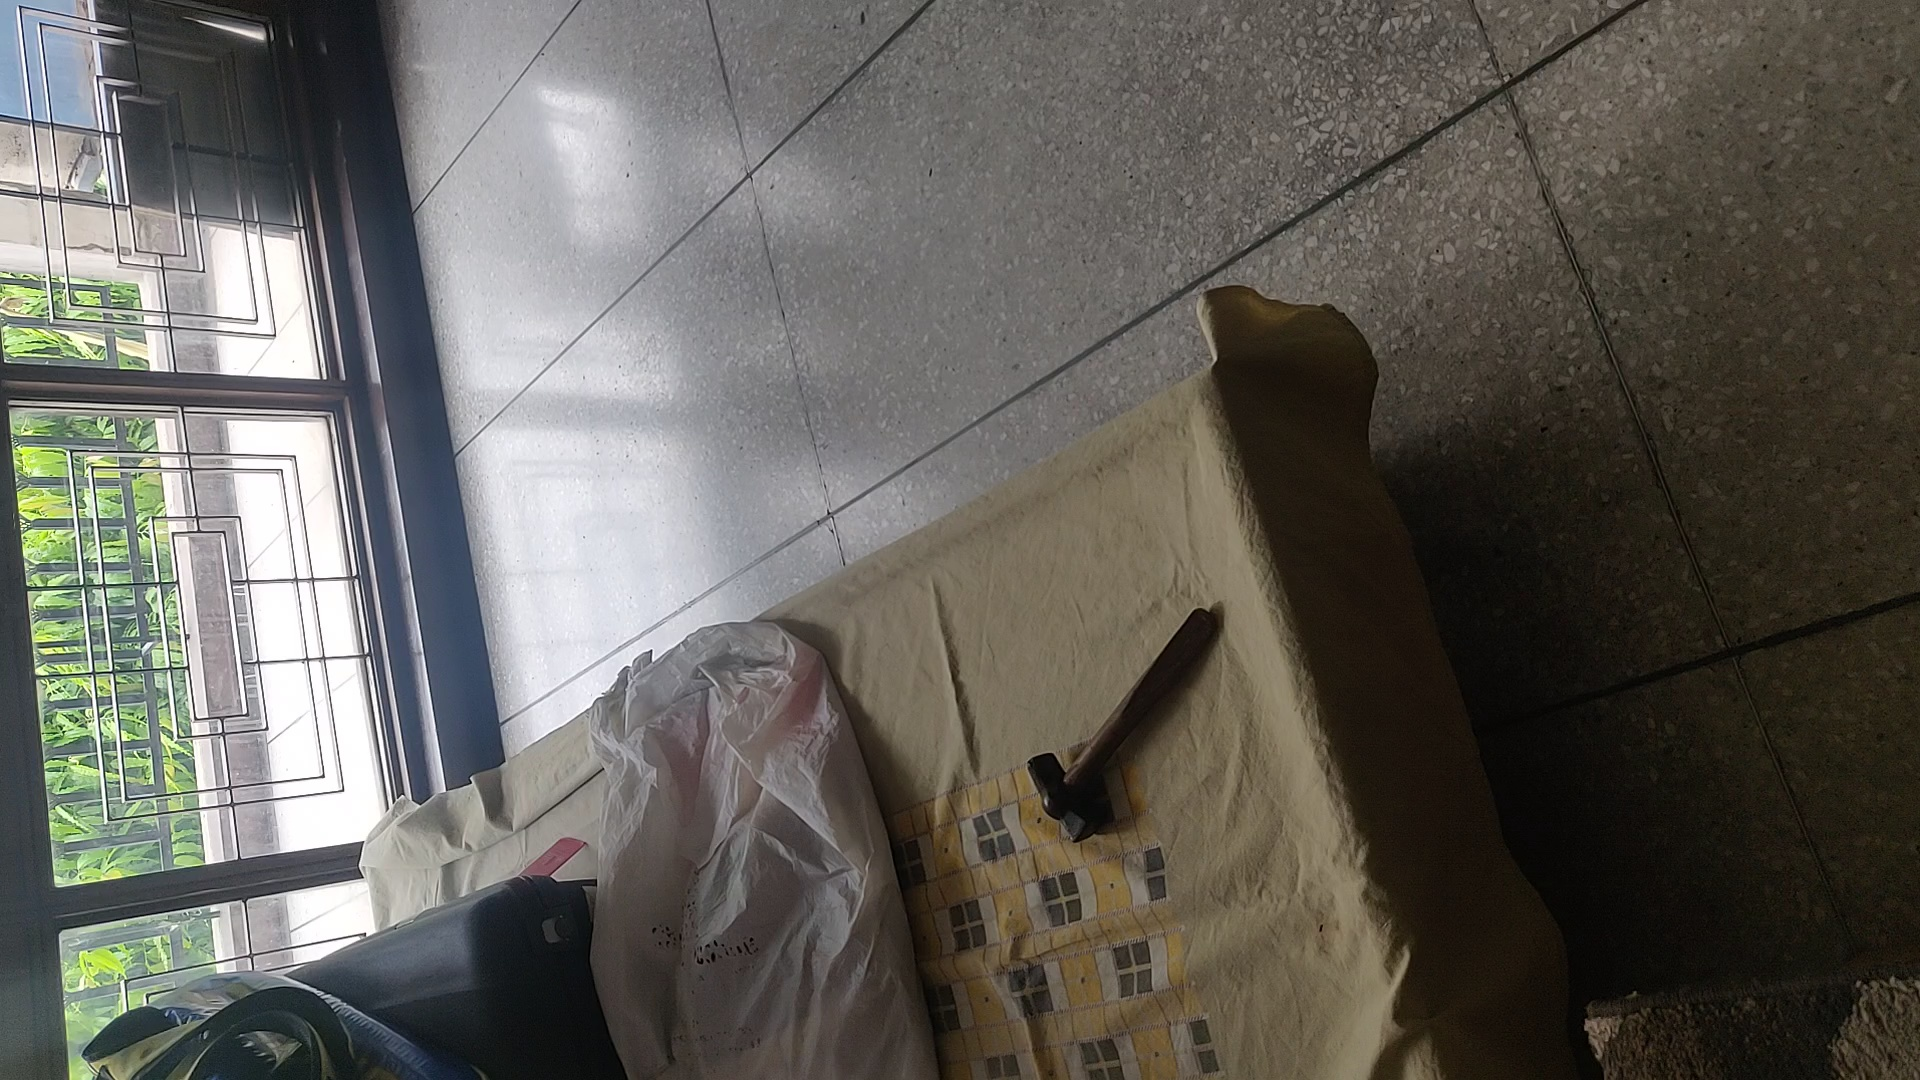hammer: (1021, 607, 1218, 847)
